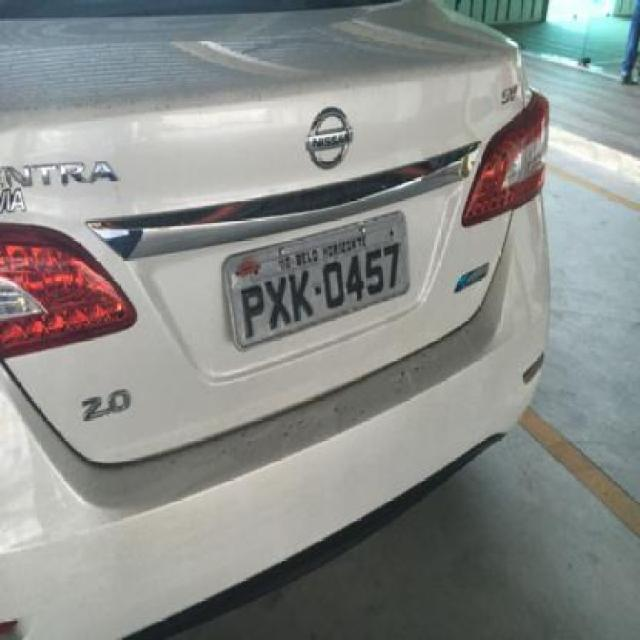old_plate: (217, 206, 415, 357)
